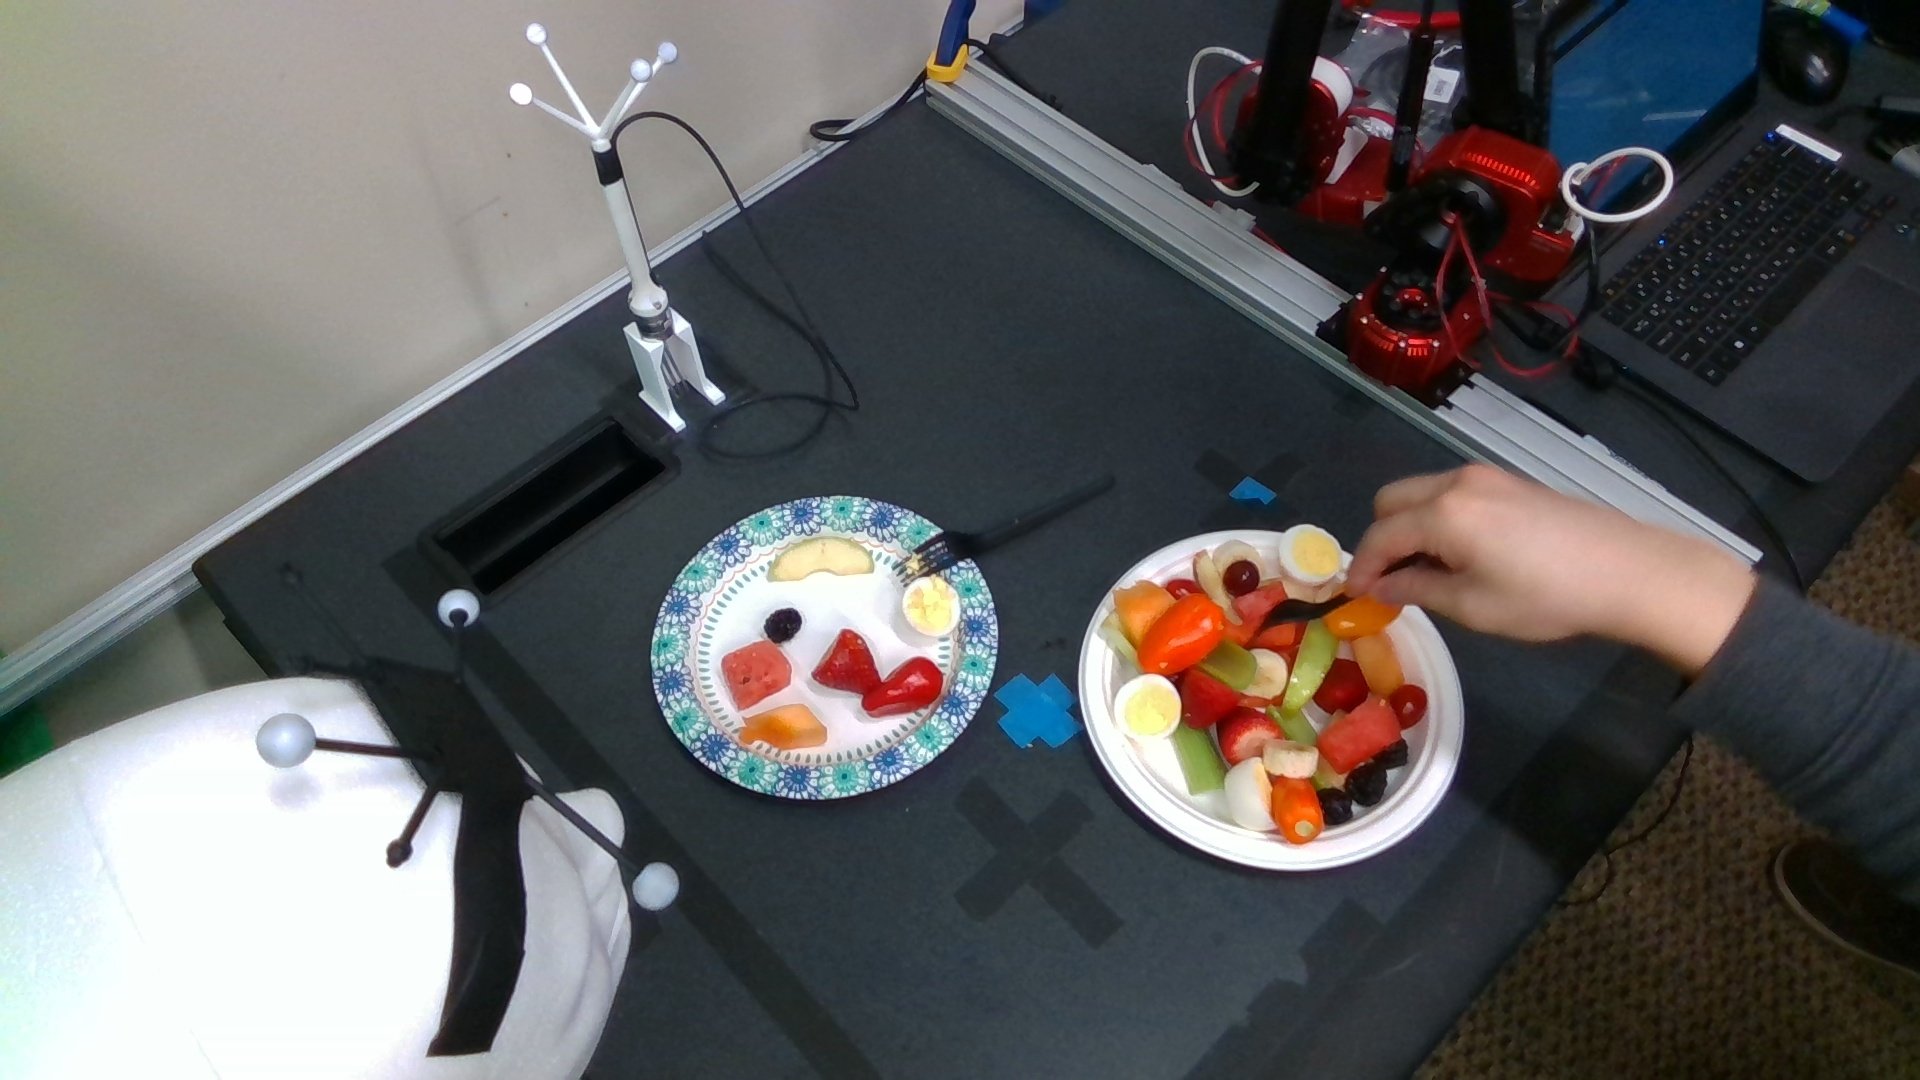apple: (766, 535, 874, 583), (1283, 617, 1338, 709)
banana: (1262, 738, 1317, 777)
bell_pepper: (1145, 589, 1225, 673), (861, 658, 942, 716), (1274, 775, 1323, 841)
blackberry: (1346, 764, 1387, 806), (765, 608, 802, 644), (1317, 789, 1353, 824)
cantalope: (744, 703, 827, 752), (1118, 582, 1172, 647), (1356, 633, 1404, 695)
celery: (1178, 725, 1228, 795), (1205, 636, 1265, 694)
cherry_tomato: (1393, 684, 1427, 727)
egg: (1114, 673, 1180, 738), (1280, 524, 1342, 584), (1225, 757, 1276, 829), (902, 578, 960, 636)
grape: (1224, 560, 1262, 596)
melon: (1321, 699, 1402, 773), (723, 640, 791, 711)
plate: (1077, 530, 1466, 874), (649, 497, 1000, 800)
strawberry: (812, 629, 882, 694), (1218, 709, 1276, 762), (1183, 669, 1242, 719), (1315, 659, 1367, 713)
